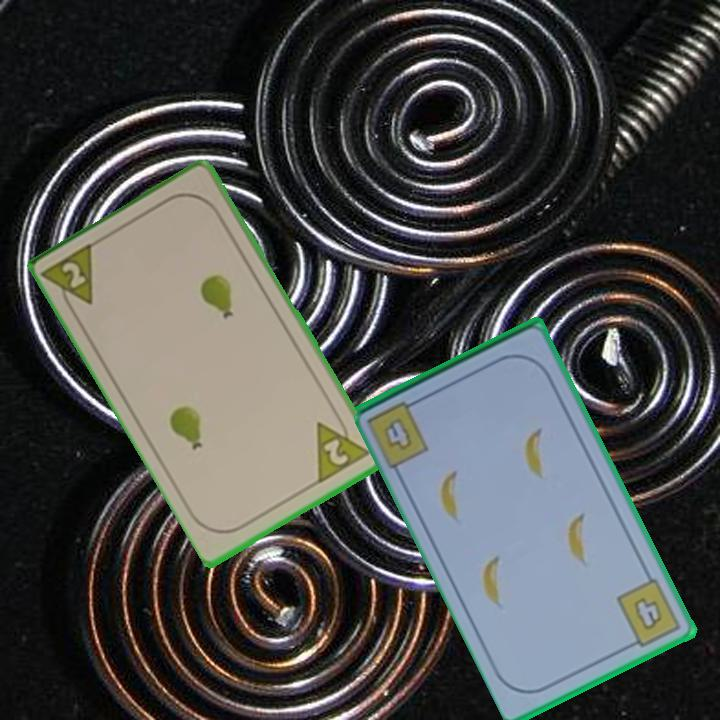2p: (40, 238, 100, 319), (313, 408, 374, 485)
4b: (613, 574, 684, 652), (380, 414, 416, 454)
